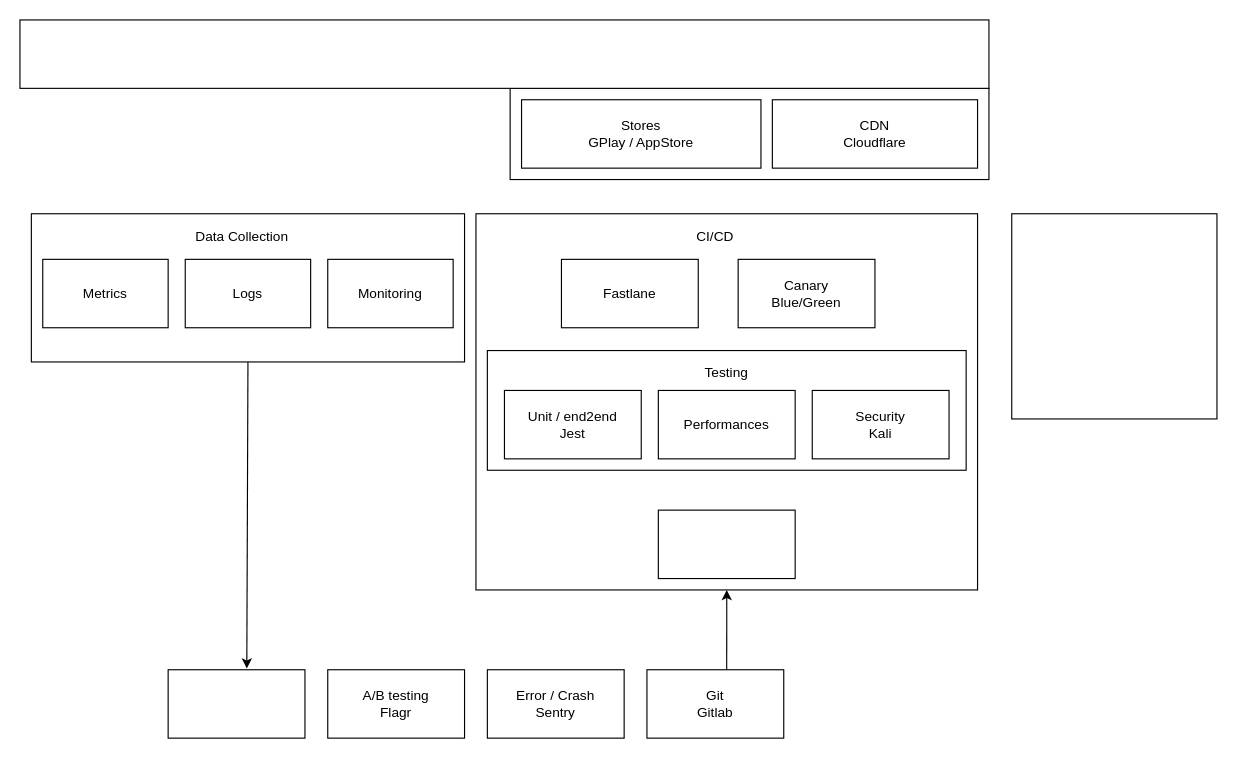
The diagram is 1237 pixels wide and 758 high, and some of its shapes have lost their labels. The centre of each missing label's shape, as x and y in pixels:
"Azure Gitlab" goes at (726,544).
"Back Office Grafana" goes at (236,703).
"OS" goes at (504,53).
"SEO Research AI Google ads FB Business" goes at (1114,316).
